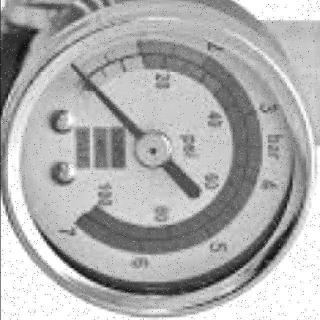gauge: (0, 0, 320, 320), (132, 128, 172, 170), (61, 56, 97, 91), (64, 208, 98, 238), (65, 59, 82, 76)
